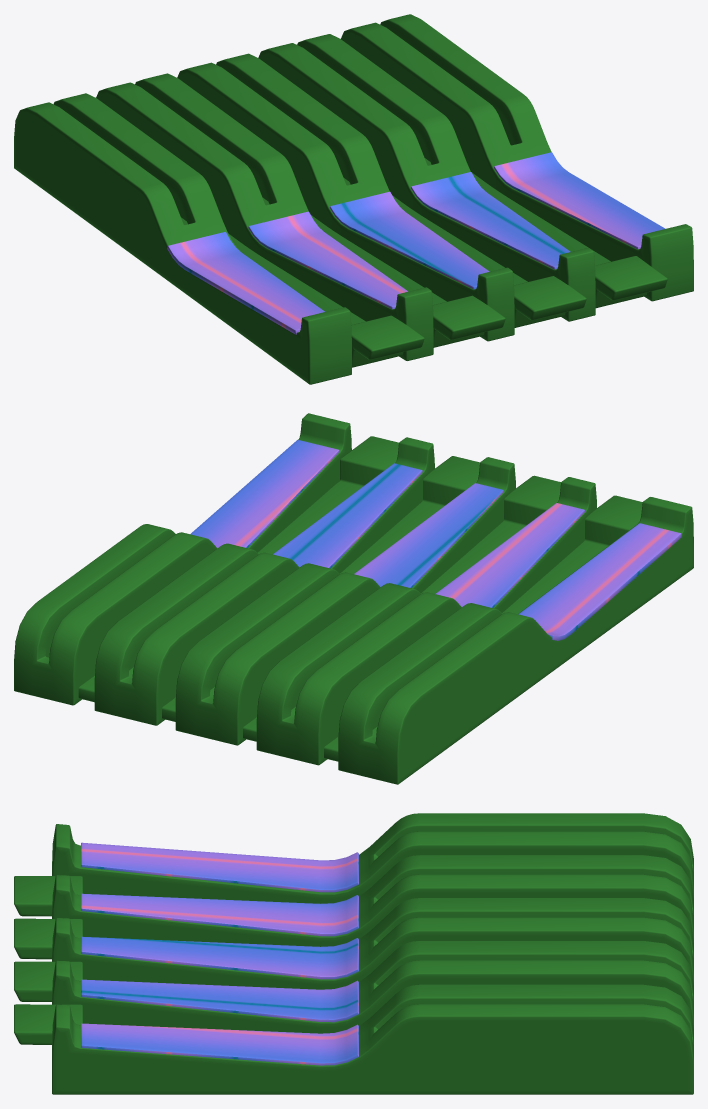
File: SM_Knife_Block.fbx
3 views of the same model, one above another, from view 1: azimuth 30°, elevation 25°; view 2: azimuth 150°, elevation 25°; view 3: azimuth 270°, elevation 25° (orthographic). The views are drawn at different scales.
Visible parts, largest first — view 1: SM_Knife_Block; view 2: SM_Knife_Block; view 3: SM_Knife_Block.
Part boxes in pixels (x1,y1,x2,y2): SM_Knife_Block: (14,14,693,384); SM_Knife_Block: (14,413,693,784); SM_Knife_Block: (14,813,693,1094).
Size of the model in its own units: 18.01 by 3.26 by 25.42.
2 materials, 1 textured.
